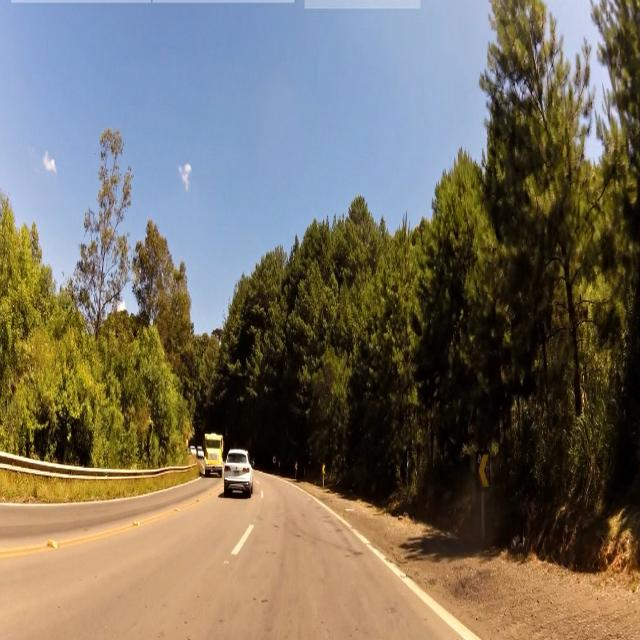Del: (476, 448, 495, 492)
